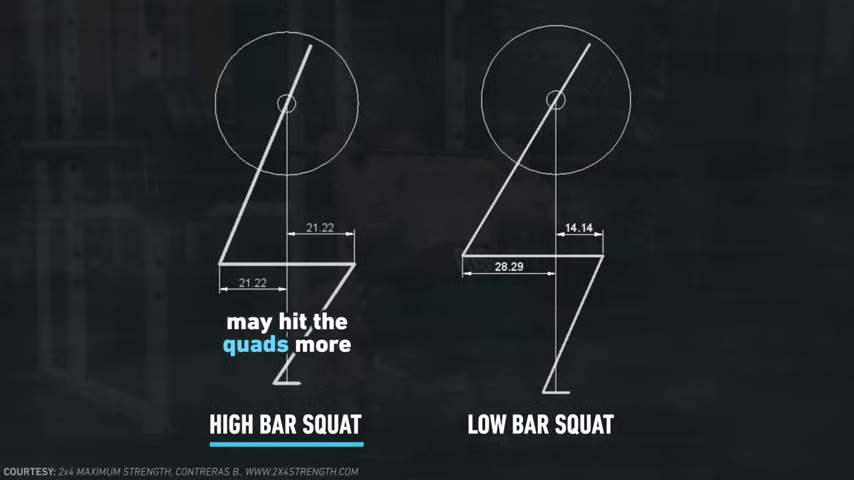barbell_plate_side: (578, 16, 639, 182), (205, 30, 264, 179), (313, 30, 369, 181), (475, 14, 521, 176)
